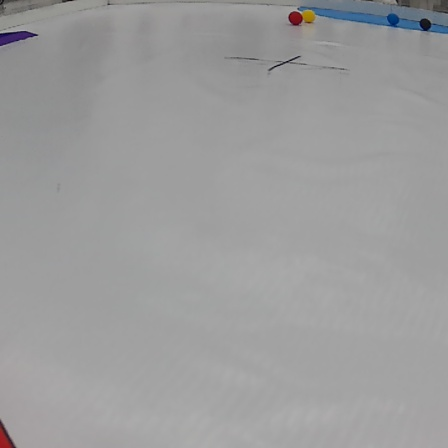black: (418, 17, 431, 28)
blue: (386, 13, 401, 25)
blue_base: (292, 2, 448, 33)
red: (287, 13, 301, 23)
yellow: (300, 8, 317, 22)
